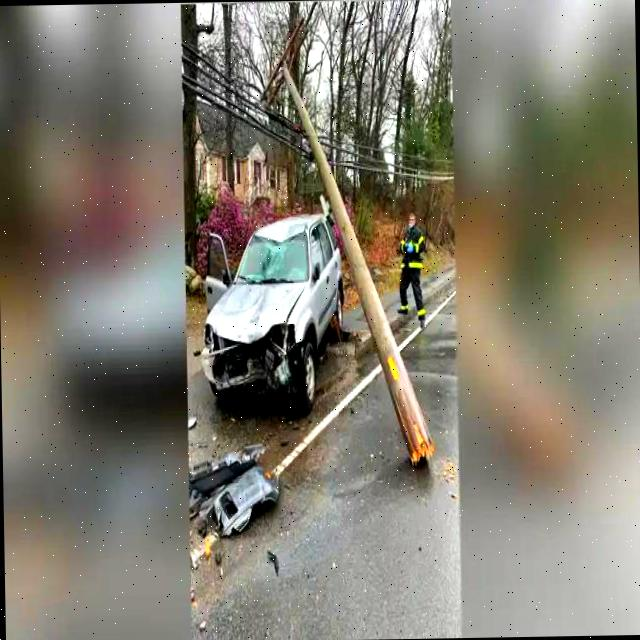Broken Pole: (258, 16, 435, 471)
